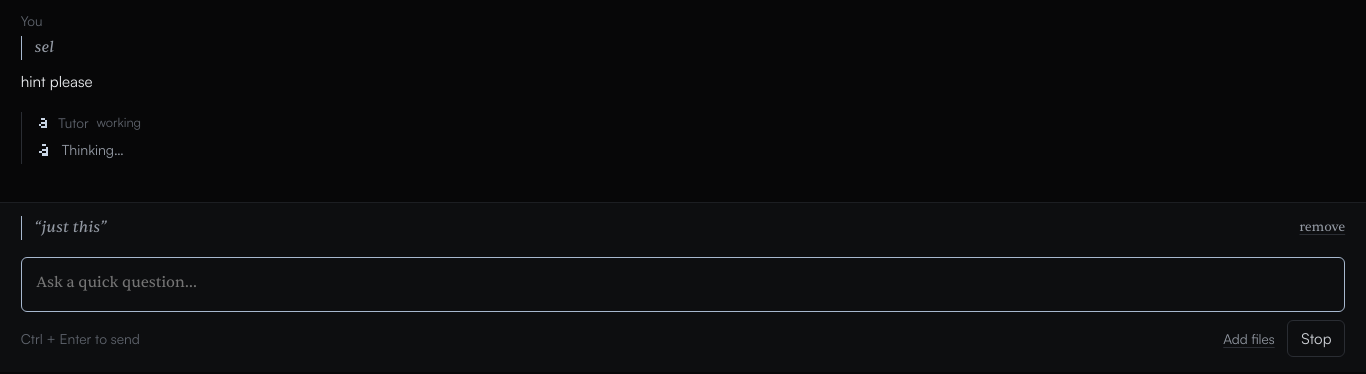
Conversation › takes requests from the lesson: questions are sent, selections wait for a question
Check: the text "“just this”" is shown, box x1=35 y1=216 x2=107 y2=240
What coordinates should you click on to do the following:
click the button with aria-label "Remove selection"
I would click on:
 (1322, 228)
Its box is x1=1300 y1=216 x2=1345 y2=240.
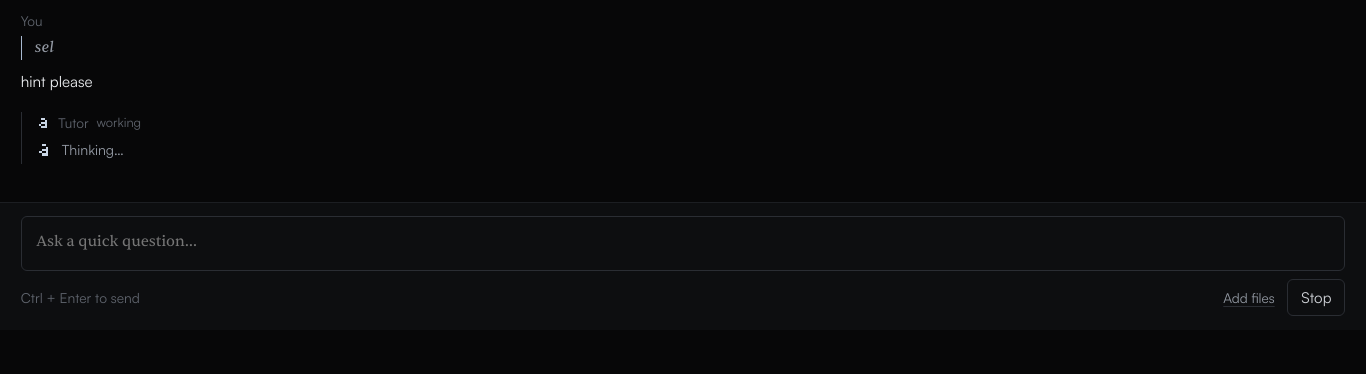
Check: the text "“just this”" is gone
